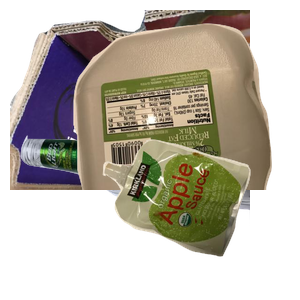cardboard: (10, 10, 250, 190)
glass: (18, 124, 258, 300)
plastic: (71, 21, 300, 201)
trash: (100, 137, 300, 300)
